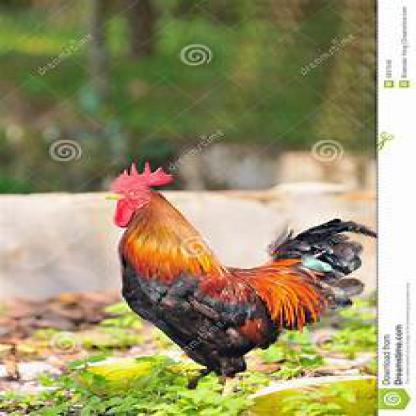chicken: (108, 161, 378, 388)
